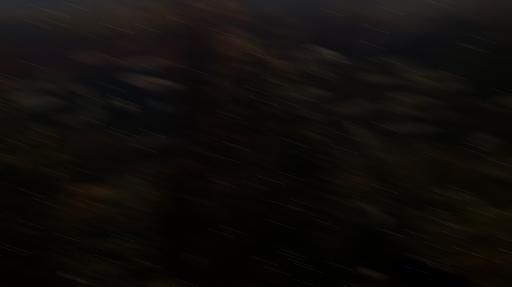Fish: (95, 134, 175, 176), (3, 67, 69, 113), (383, 94, 452, 134), (56, 95, 114, 125), (360, 67, 444, 85), (387, 93, 422, 126), (120, 73, 183, 91), (328, 100, 376, 115), (119, 56, 168, 70), (279, 86, 327, 100), (349, 125, 377, 149), (468, 133, 498, 149), (375, 57, 422, 67), (72, 51, 110, 63), (479, 157, 512, 169), (63, 82, 91, 95), (115, 99, 135, 111), (495, 97, 512, 107), (324, 53, 331, 57)
